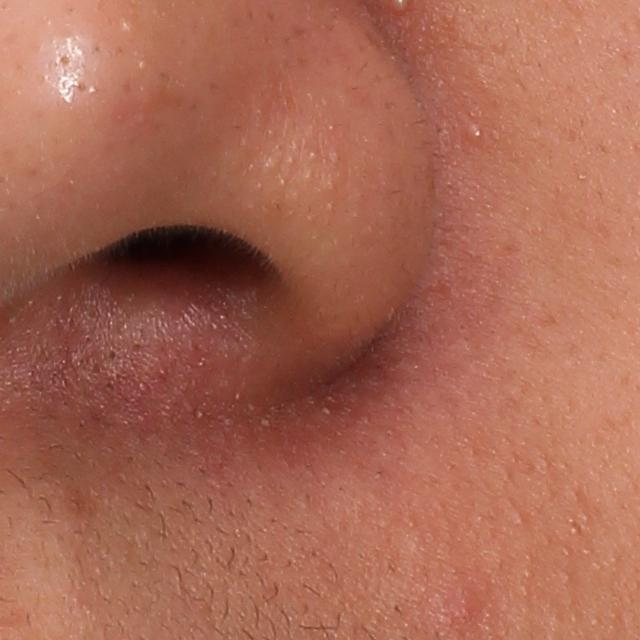comedo: (467, 127, 483, 143)
